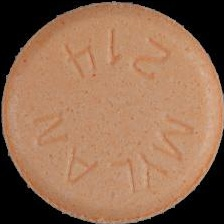0615-2596: (0, 0, 224, 224)
